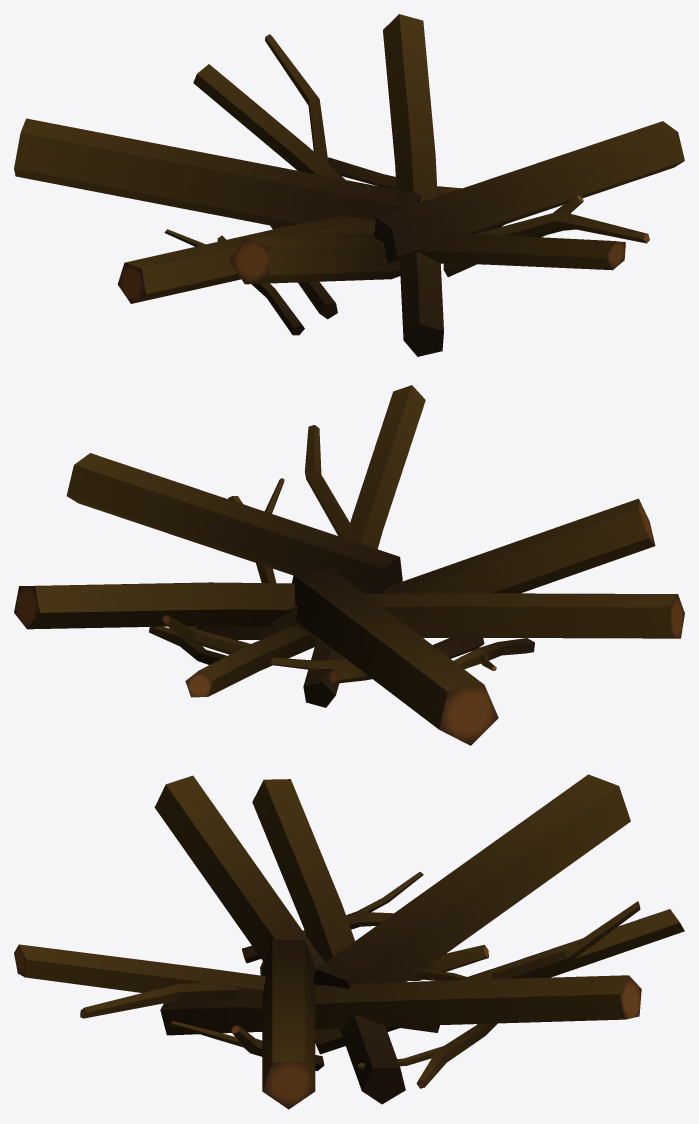
Rendered from Firepit_Sticks.fbx.
The picture shows the model from 3 angles, top to bottom: view 1: azimuth 30°, elevation 25°; view 2: azimuth 150°, elevation 25°; view 3: azimuth 270°, elevation 25°; orthographic projection. The views are drawn at different scales.
Visible parts, largest first — view 1: Firepit_Sticks; view 2: Firepit_Sticks; view 3: Firepit_Sticks.
Part boxes in pixels (<box>): Firepit_Sticks: <box>14,14,684,356</box>; Firepit_Sticks: <box>14,385,684,745</box>; Firepit_Sticks: <box>14,774,684,1109</box>.
Bounding box in the file's own units: 126 × 33.89 × 122.
